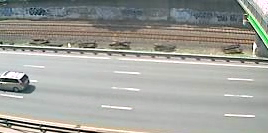car: (1, 70, 32, 94)
